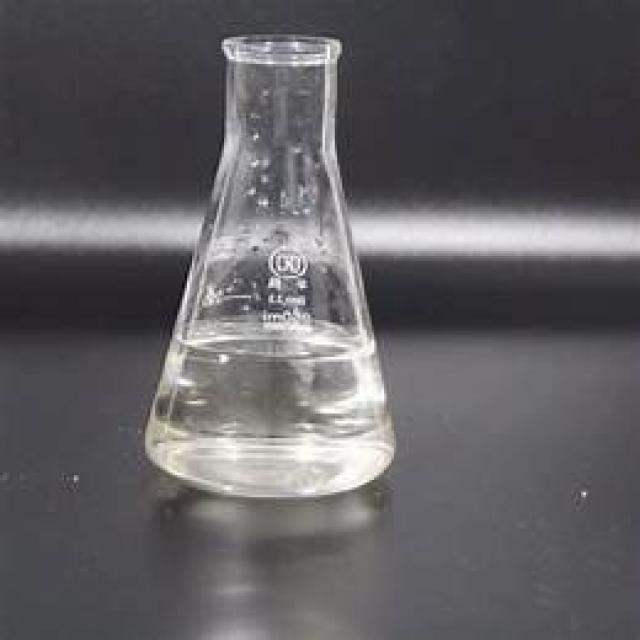Titrarion: (141, 30, 404, 494)
